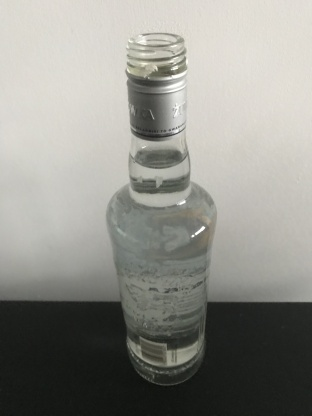nakretka: (123, 31, 189, 141)
